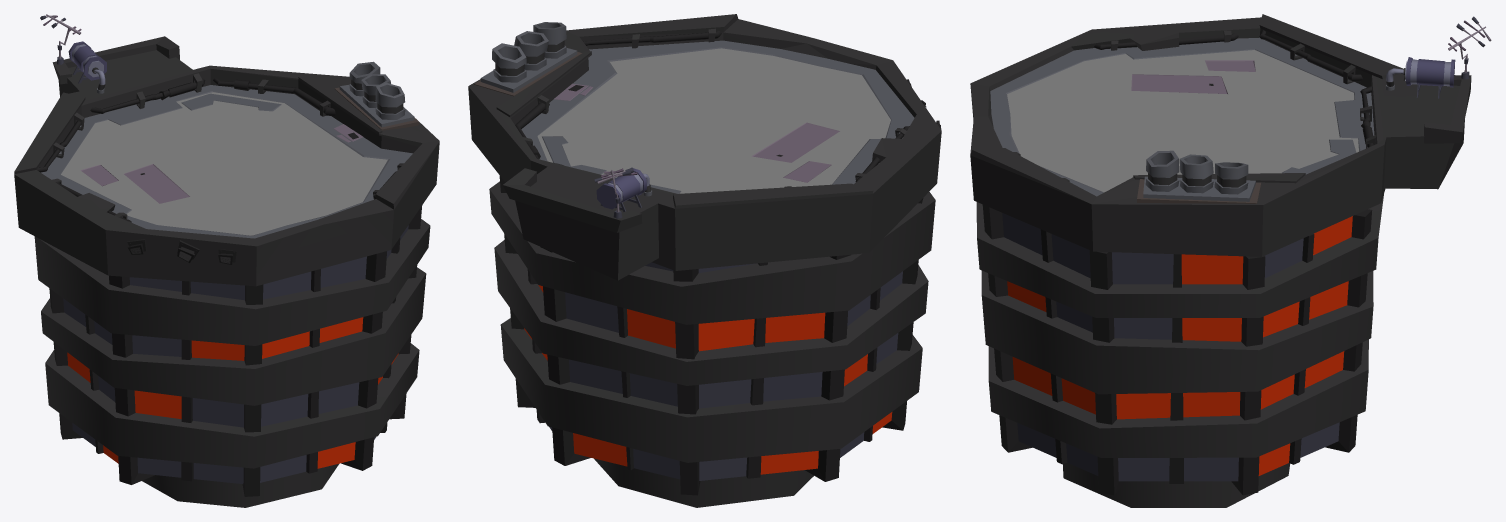
The model's file is Hecks_Kitchen_Tile_Boss_arena.fbx.
3 renders of one model, left to right at view 1: azimuth 30°, elevation 25°; view 2: azimuth 150°, elevation 25°; view 3: azimuth 270°, elevation 25°, orthographic. The views are drawn at different scales.
Parts seen in each view (by area): view 1: Hecks_Kitchen_Tile_Boss_arena; view 2: Hecks_Kitchen_Tile_Boss_arena; view 3: Hecks_Kitchen_Tile_Boss_arena.
Boxes of the visible parts, <box> form: Hecks_Kitchen_Tile_Boss_arena: <box>14,14,439,507</box>; Hecks_Kitchen_Tile_Boss_arena: <box>468,14,941,507</box>; Hecks_Kitchen_Tile_Boss_arena: <box>970,14,1491,507</box>.
Bounding box in the file's own units: 46.11 × 44.56 × 51.54.
